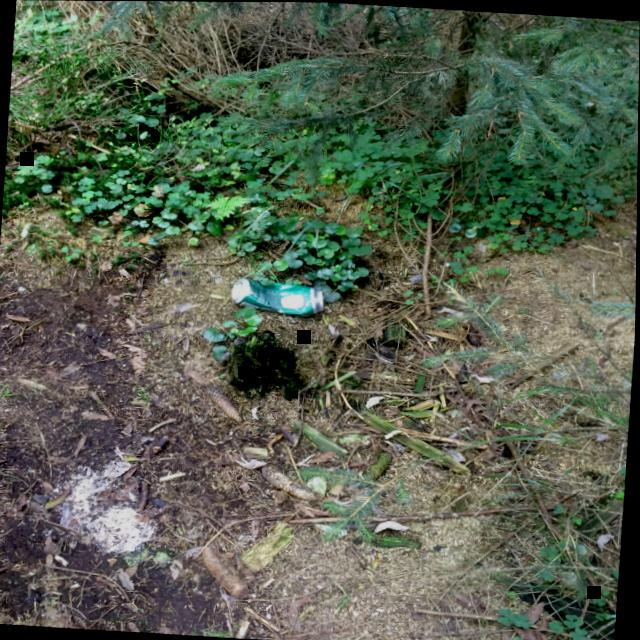Drink can: (233, 278, 325, 314)
